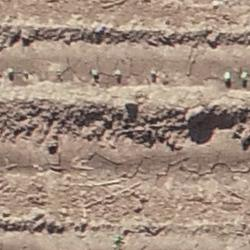cotton: (224, 73, 231, 79), (115, 70, 121, 76), (241, 72, 246, 79), (8, 68, 15, 73), (93, 70, 98, 75), (24, 70, 28, 74), (151, 70, 156, 73)
